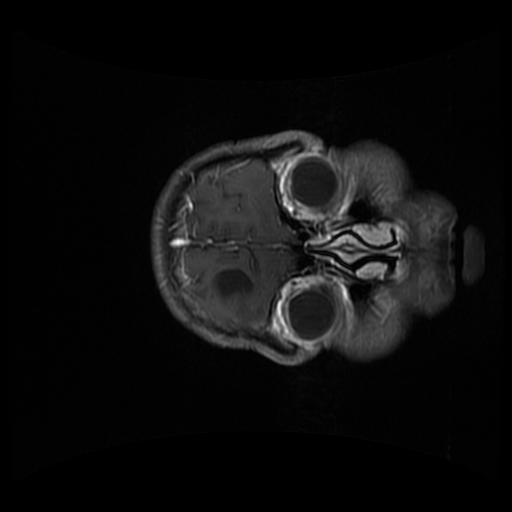glioma: (213, 268, 251, 304)
